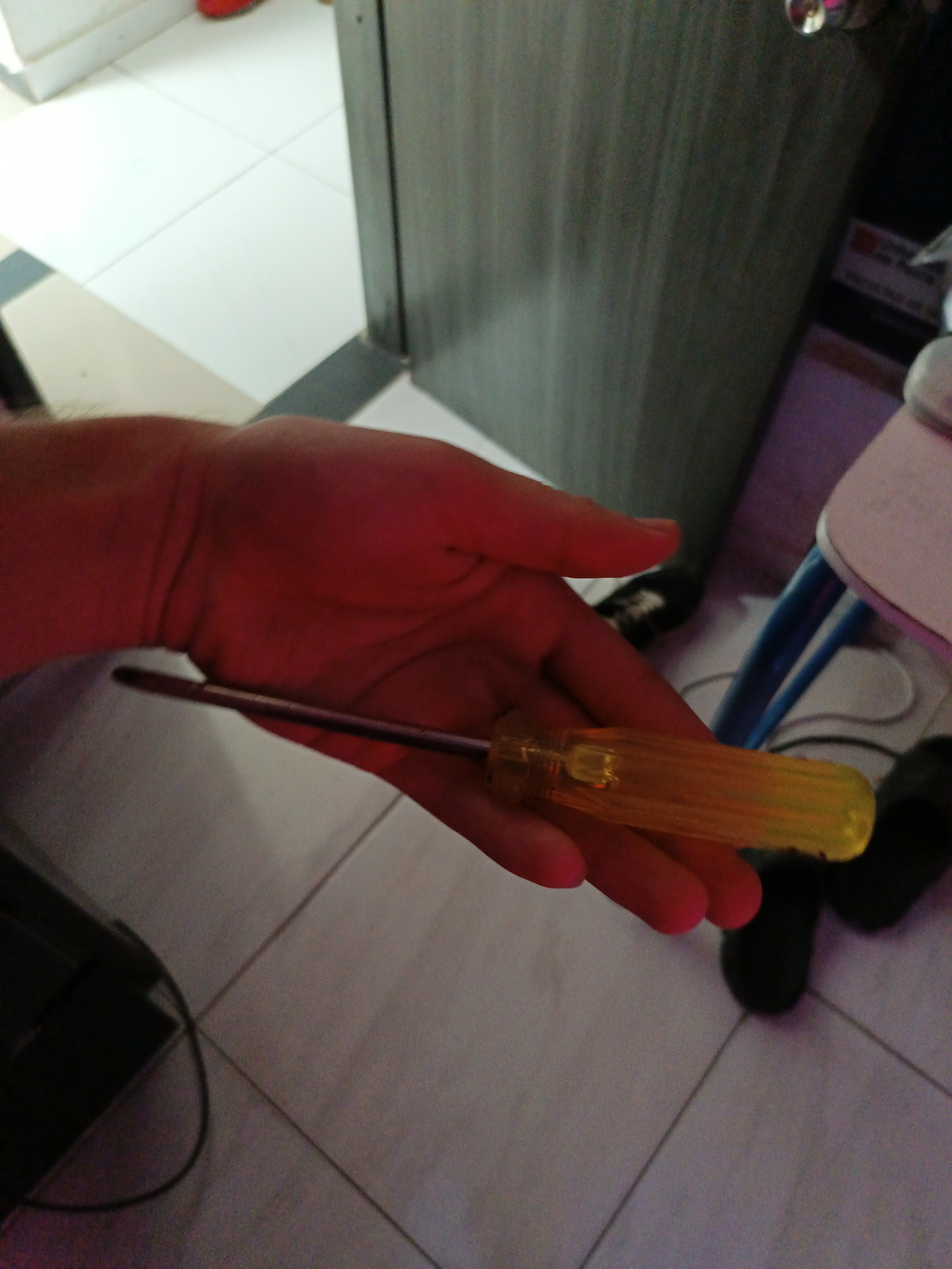Destornillador: (113, 666, 875, 861)
